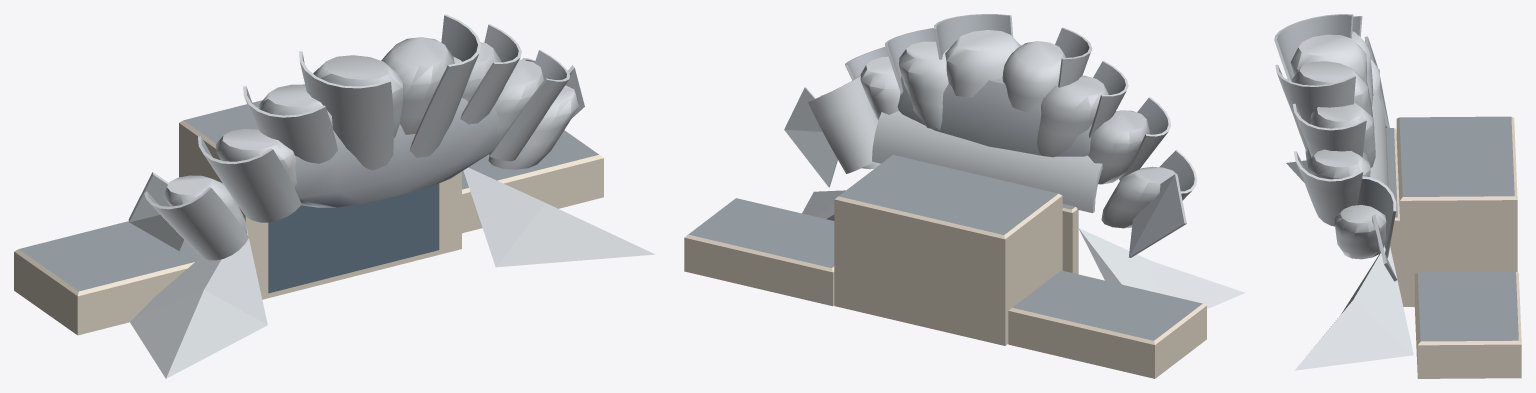
The picture shows the model from 3 angles, left to right: view 1: azimuth 30°, elevation 25°; view 2: azimuth 150°, elevation 25°; view 3: azimuth 270°, elevation 25°; orthographic projection. The views are drawn at different scales.
Visible parts, largest first — view 1: jay-pritzker-pavilion; view 2: jay-pritzker-pavilion; view 3: jay-pritzker-pavilion.
Boxes of the visible parts, <box> form: jay-pritzker-pavilion: <box>14,14,655,378</box>; jay-pritzker-pavilion: <box>684,14,1245,378</box>; jay-pritzker-pavilion: <box>1274,14,1521,378</box>.
Bounding box in the file's own units: 93.49 × 42.68 × 43.31.
